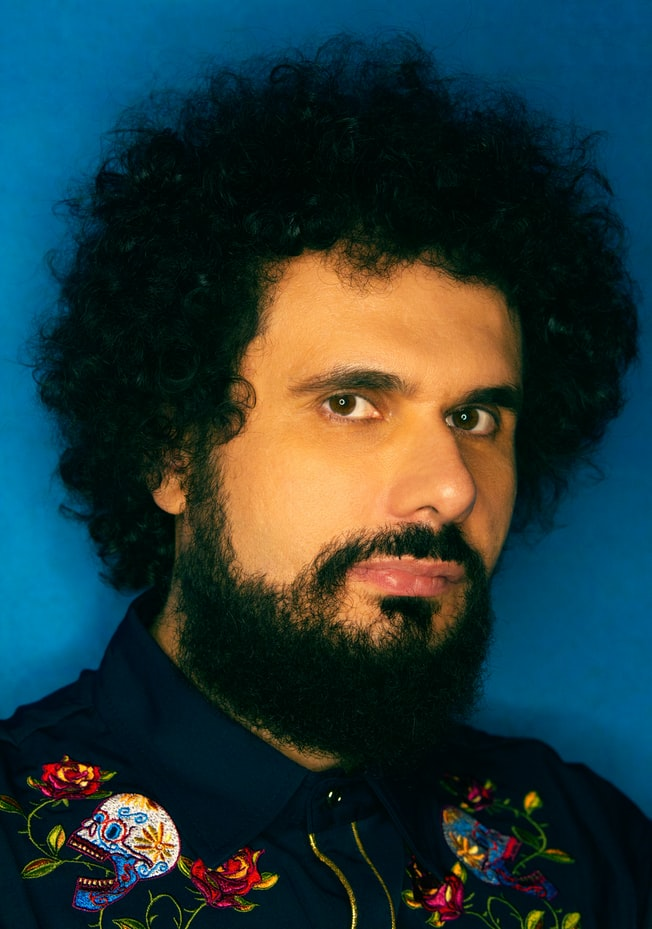beard: (171, 463, 504, 757)
